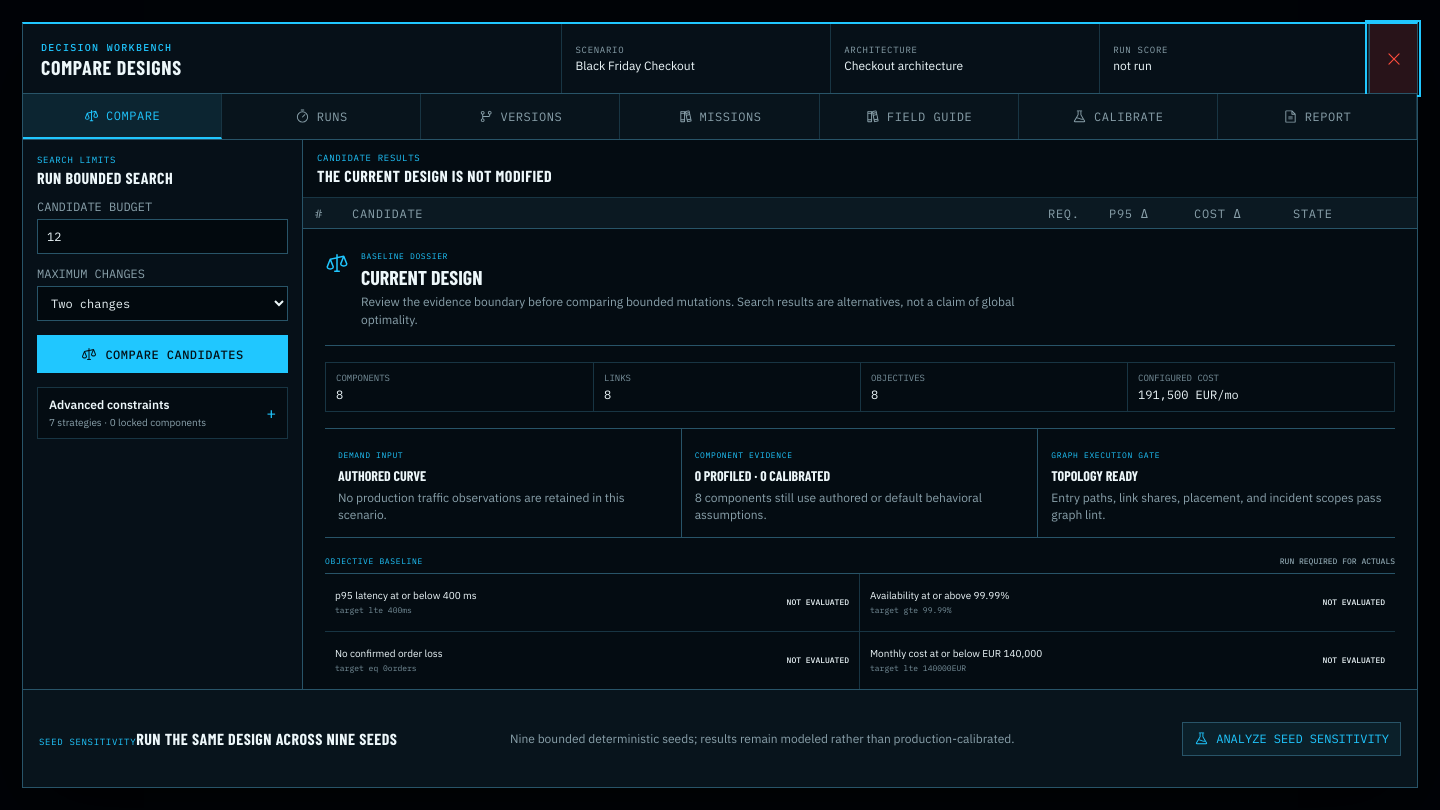
Scenario: completed-run decision workbench › exposes the local Run library as a first-class workbench
Click the tab "Runs". click: (322, 116)
box: x1=222 y1=94 x2=421 y2=139
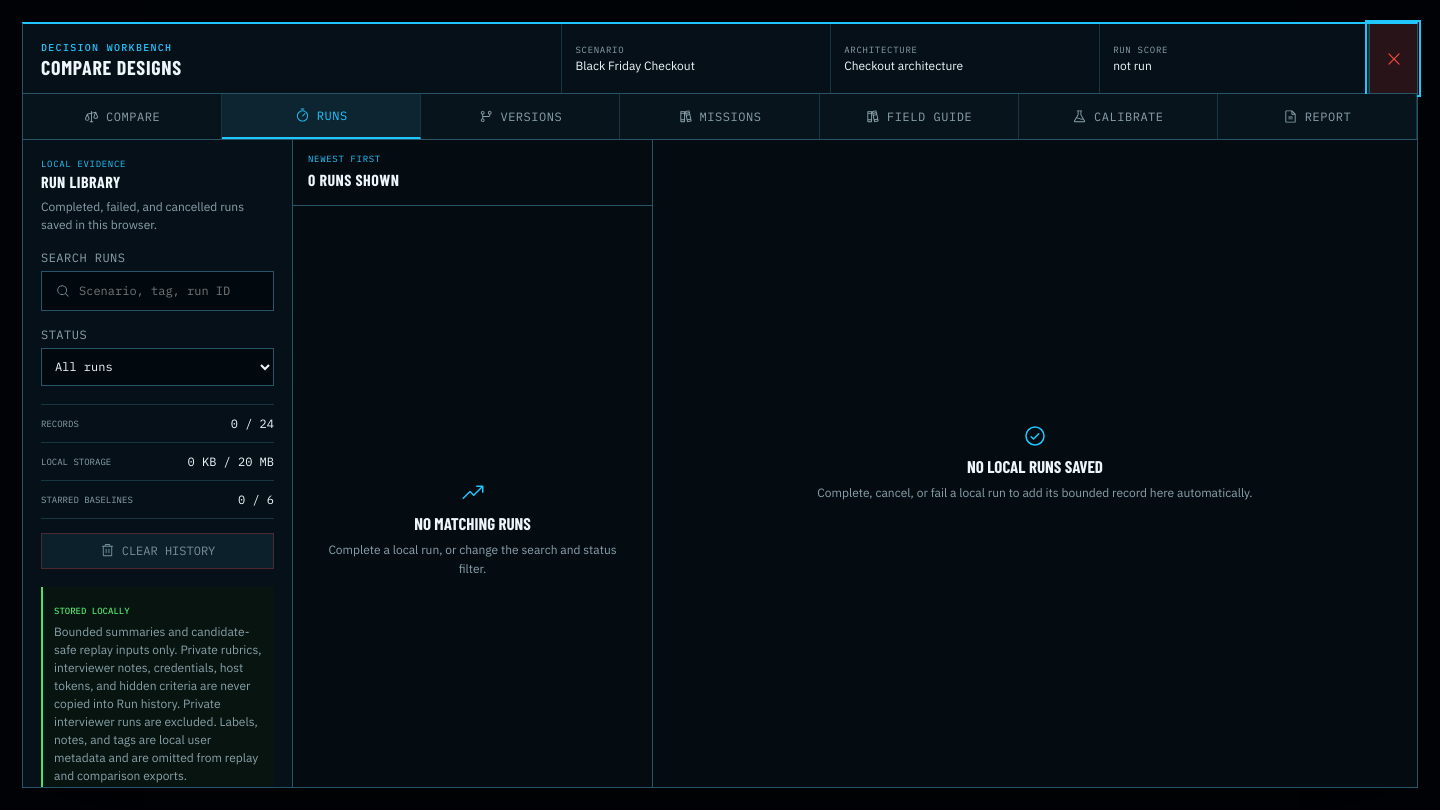
expect the text "Run library" is shown: met, box x1=41 y1=172 x2=121 y2=191
expect the text "Stored locally" is shown: met, box x1=54 y1=605 x2=130 y2=616
expect the text "Private interviewer runs are excluded" is shown: met, box x1=54 y1=624 x2=261 y2=783
